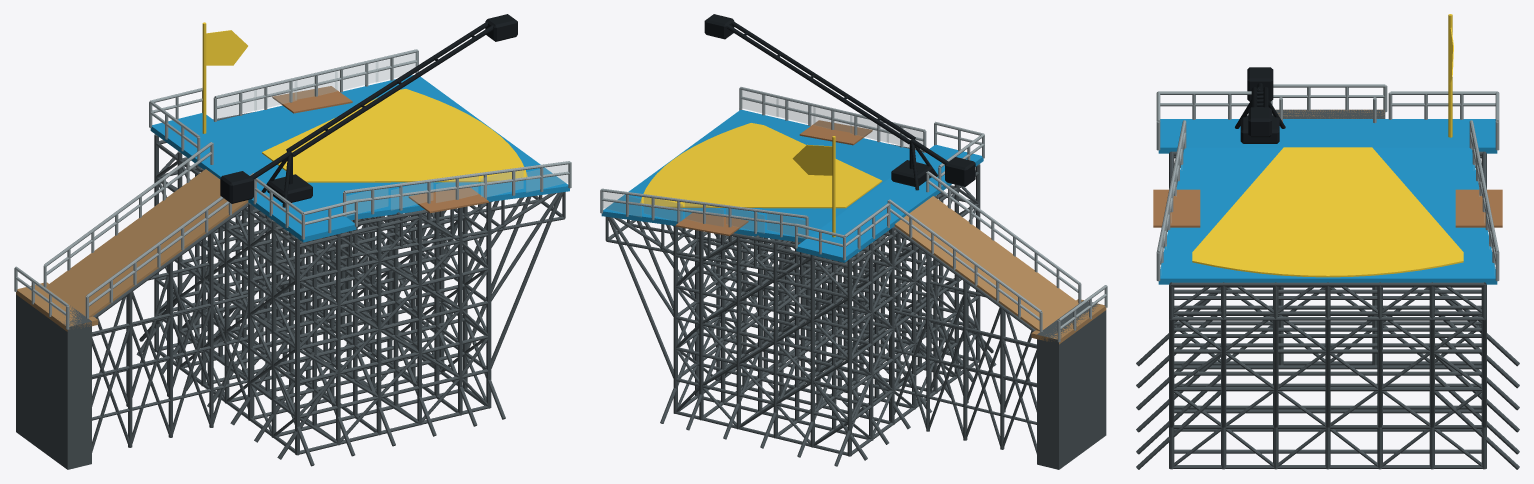
Rendered from platform.glb.
3 renders of one model, left to right at view 1: azimuth 30°, elevation 25°; view 2: azimuth 150°, elevation 25°; view 3: azimuth 270°, elevation 25°, orthographic. The views are drawn at different scales.
Visible parts, largest first — view 1: PRINT_Main_Tower, DISPLAY_Yellow_Fan_Runway, PRINT_Platform_Guardrails, PRINT_Access_Ramp_Scaffold, PRINT_Access_Landing_Support, PRINT_Sloped_Launch_Deck, PRINT_Platform_Access_Ramp, PRINT_Upper_Flat_Stage, PRINT_Launch_Slope_Follow_Frame, CAMERA_ARM_Boom_and_Mast, DISPLAY_Side_Deck_R, DISPLAY_Yellow_Flag (+15 smaller); view 2: PRINT_Main_Tower, DISPLAY_Yellow_Fan_Runway, PRINT_Platform_Guardrails, PRINT_Access_Ramp_Scaffold, PRINT_Access_Landing_Support, PRINT_Sloped_Launch_Deck, PRINT_Platform_Access_Ramp, PRINT_Upper_Flat_Stage, PRINT_Launch_Slope_Follow_Frame, CAMERA_ARM_Boom_and_Mast, DISPLAY_Side_Deck_L, DISPLAY_Yellow_Flag (+13 smaller); view 3: PRINT_Main_Tower, DISPLAY_Yellow_Fan_Runway, PRINT_Sloped_Launch_Deck, PRINT_Upper_Flat_Stage, PRINT_Launch_Slope_Follow_Frame, PRINT_Platform_Guardrails, DISPLAY_Side_Deck_L, DISPLAY_Side_Deck_R, PRINT_Access_Landing_Support, CAMERA_ARM_Camera_Head, CAMERA_ARM_Counterweight, CAMERA_ARM_Boom_and_Mast (+3 smaller).
Boxes of the visible parts, bbox=[...] form: PRINT_Main_Tower: bbox=[136, 134, 505, 466]; DISPLAY_Yellow_Fan_Runway: bbox=[262, 89, 527, 182]; PRINT_Platform_Guardrails: bbox=[14, 49, 571, 329]; PRINT_Access_Ramp_Scaffold: bbox=[92, 202, 254, 452]; PRINT_Access_Landing_Support: bbox=[16, 294, 91, 469]; PRINT_Sloped_Launch_Deck: bbox=[216, 75, 569, 220]; PRINT_Platform_Access_Ramp: bbox=[46, 169, 248, 317]; PRINT_Upper_Flat_Stage: bbox=[150, 113, 356, 242]; PRINT_Launch_Slope_Follow_Frame: bbox=[213, 111, 565, 368]; CAMERA_ARM_Boom_and_Mast: bbox=[250, 21, 493, 207]; DISPLAY_Side_Deck_R: bbox=[272, 86, 352, 113]; DISPLAY_Yellow_Flag: bbox=[206, 30, 247, 65]; PRINT_Main_Tower: bbox=[660, 164, 996, 466]; DISPLAY_Yellow_Fan_Runway: bbox=[640, 123, 882, 208]; PRINT_Platform_Guardrails: bbox=[600, 87, 1107, 342]; PRINT_Access_Ramp_Scaffold: bbox=[889, 226, 1036, 453]; PRINT_Access_Landing_Support: bbox=[1037, 300, 1106, 469]; PRINT_Sloped_Launch_Deck: bbox=[601, 110, 923, 242]; PRINT_Platform_Access_Ramp: bbox=[894, 196, 1078, 330]; PRINT_Upper_Flat_Stage: bbox=[796, 145, 983, 262]; PRINT_Launch_Slope_Follow_Frame: bbox=[605, 143, 923, 378]; CAMERA_ARM_Boom_and_Mast: bbox=[727, 20, 948, 190]; DISPLAY_Side_Deck_L: bbox=[799, 120, 872, 145]; DISPLAY_Yellow_Flag: bbox=[792, 144, 832, 175]; PRINT_Main_Tower: bbox=[1136, 154, 1519, 469]; DISPLAY_Yellow_Fan_Runway: bbox=[1192, 147, 1463, 277]; PRINT_Sloped_Launch_Deck: bbox=[1158, 147, 1497, 284]; PRINT_Upper_Flat_Stage: bbox=[1158, 119, 1497, 153]; PRINT_Launch_Slope_Follow_Frame: bbox=[1169, 151, 1486, 427]; PRINT_Platform_Guardrails: bbox=[1156, 84, 1499, 281]; DISPLAY_Side_Deck_L: bbox=[1153, 189, 1200, 227]; DISPLAY_Side_Deck_R: bbox=[1455, 189, 1502, 227]; PRINT_Access_Landing_Support: bbox=[1272, 109, 1385, 118]; CAMERA_ARM_Camera_Head: bbox=[1248, 107, 1271, 137]; CAMERA_ARM_Counterweight: bbox=[1247, 67, 1273, 101]; CAMERA_ARM_Boom_and_Mast: bbox=[1235, 83, 1285, 128].
Size of the model in its own units: 1 by 0.7336 by 0.6589.
